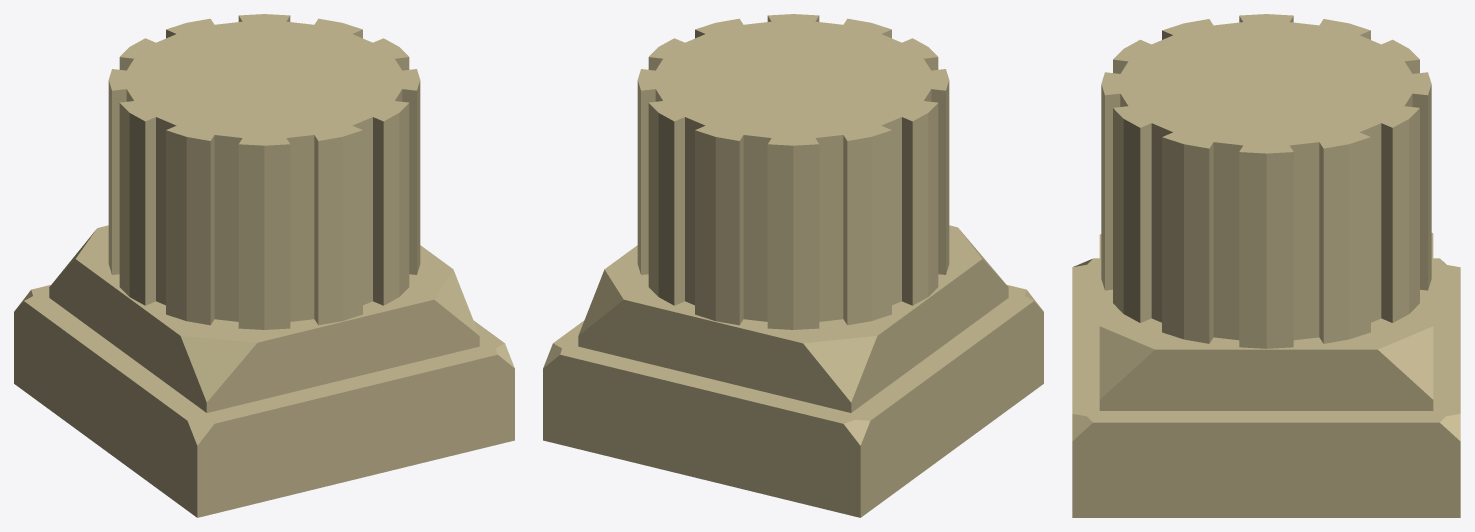
File: column_bottom (1).fbx
3 views of the same model, side by side, from view 1: azimuth 30°, elevation 25°; view 2: azimuth 150°, elevation 25°; view 3: azimuth 270°, elevation 25° (orthographic). The views are drawn at different scales.
Parts seen in each view (by area): view 1: base.001; view 2: base.001; view 3: base.001.
Boxes of the visible parts, x1,y1,x2,y2 form: base.001: (14,14,514,517); base.001: (543,14,1043,517); base.001: (1072,14,1460,517).
Size of the model in its own units: 400 by 400 by 400.
